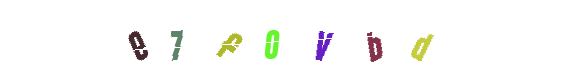0: (242, 0, 322, 80)
7: (211, 0, 291, 80)
B: (282, 0, 362, 80)
D: (287, 0, 367, 80)
E: (158, 0, 238, 80)
F: (232, 0, 312, 80)
V: (250, 0, 330, 80)
